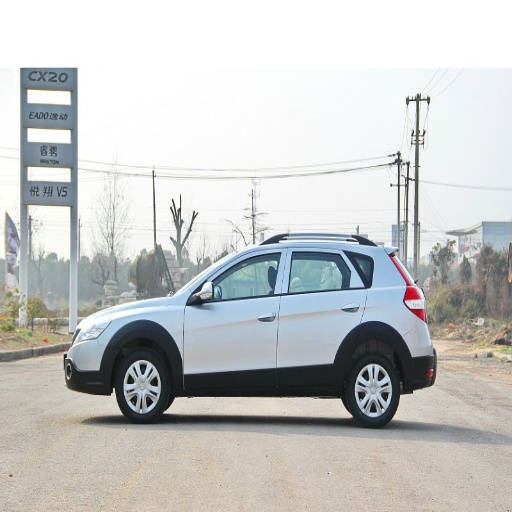back_left_door: (277, 249, 366, 388)
front_left_door: (184, 249, 286, 385)
